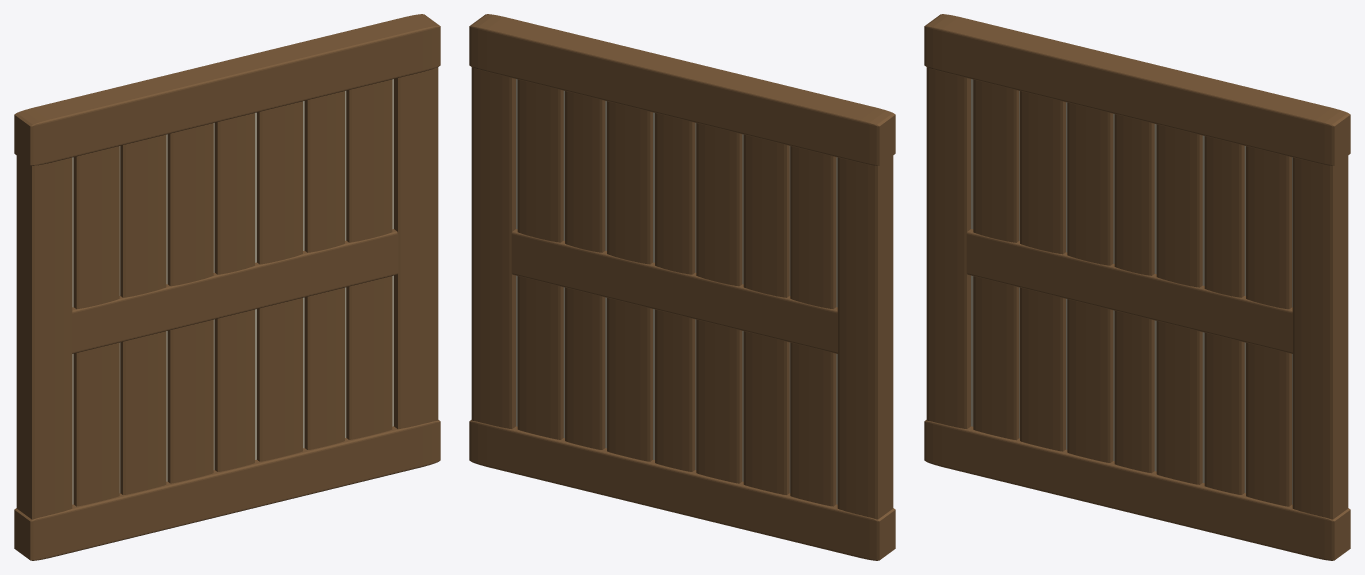
3 renders of one model, left to right at view 1: azimuth 30°, elevation 25°; view 2: azimuth 150°, elevation 25°; view 3: azimuth 330°, elevation 25°, orthographic.
Parts seen in each view (by area): view 1: Cube.048; view 2: Cube.048; view 3: Cube.048.
Part boxes in pixels (x1=…): Cube.048: x1=14, y1=14, x2=440, y2=560; Cube.048: x1=469, y1=14, x2=895, y2=560; Cube.048: x1=924, y1=14, x2=1350, y2=560.
Bounding box in the file's own units: 207 × 212 × 15.54.
